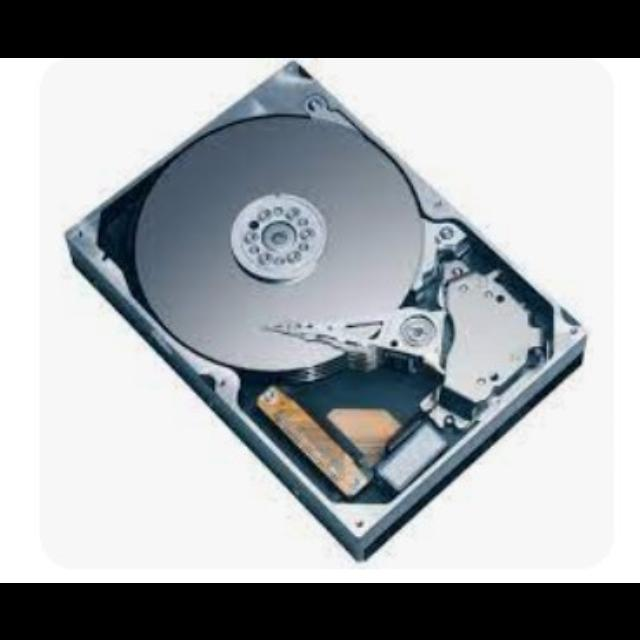HDD: (69, 62, 585, 564)
